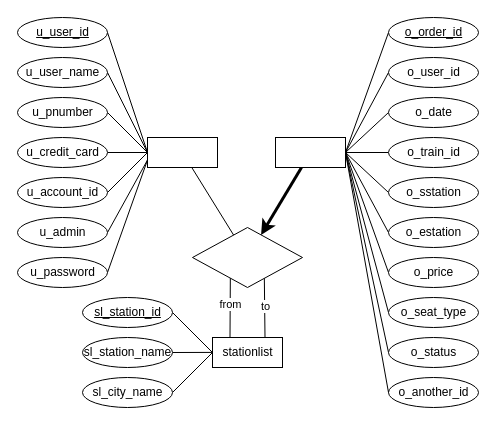
This 496x425 diagram has some shape labels left out. Here are the shapes that lost their labels. From the top down, the centre of each, then its label:
At point 182,152: "user".
At point 310,152: "order".
At point 247,257: "book".
